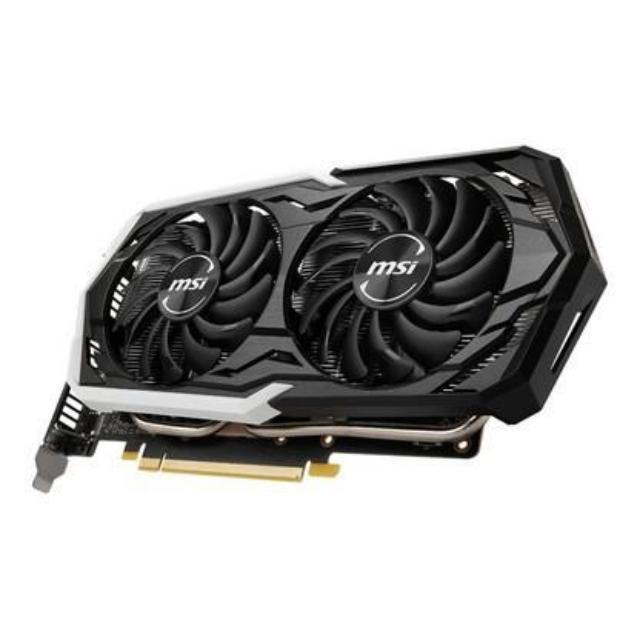GPU: (44, 137, 616, 486)
